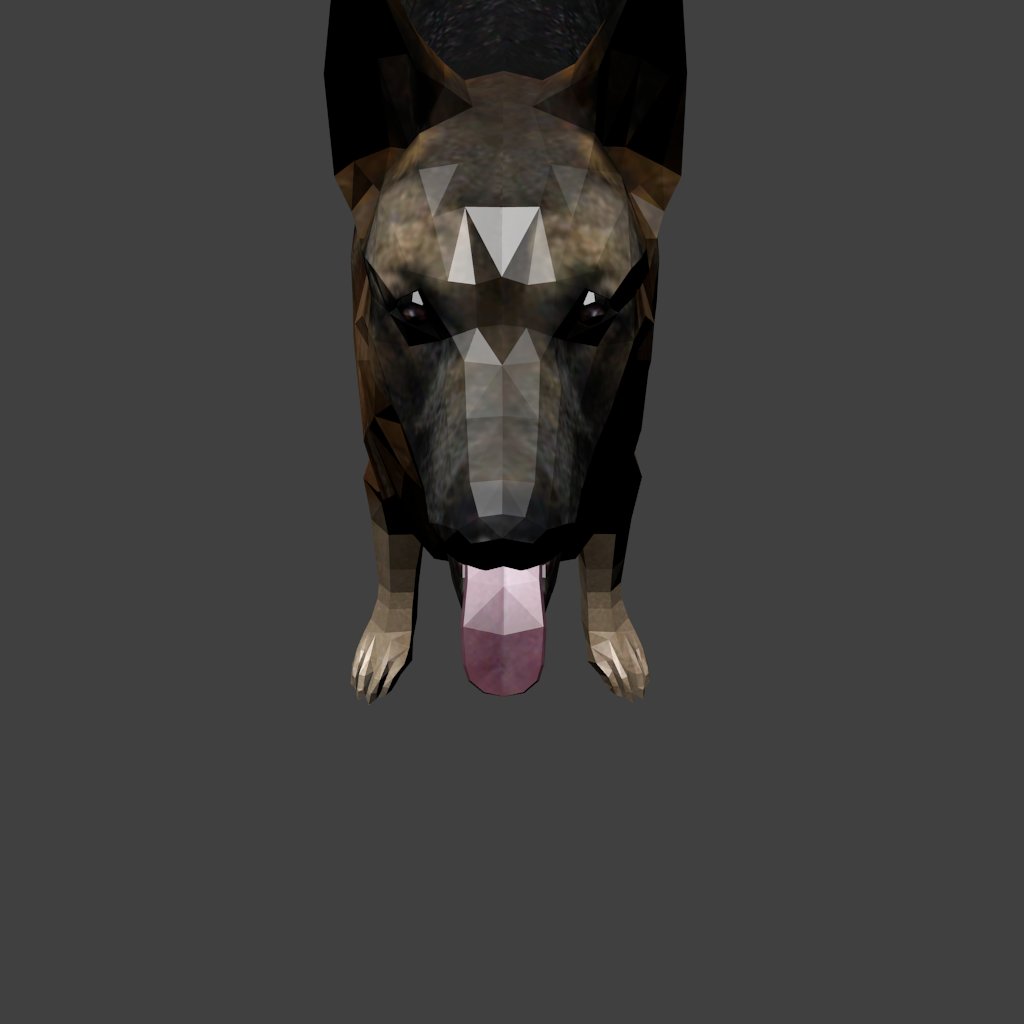Dog: (324, 0, 364, 705)
